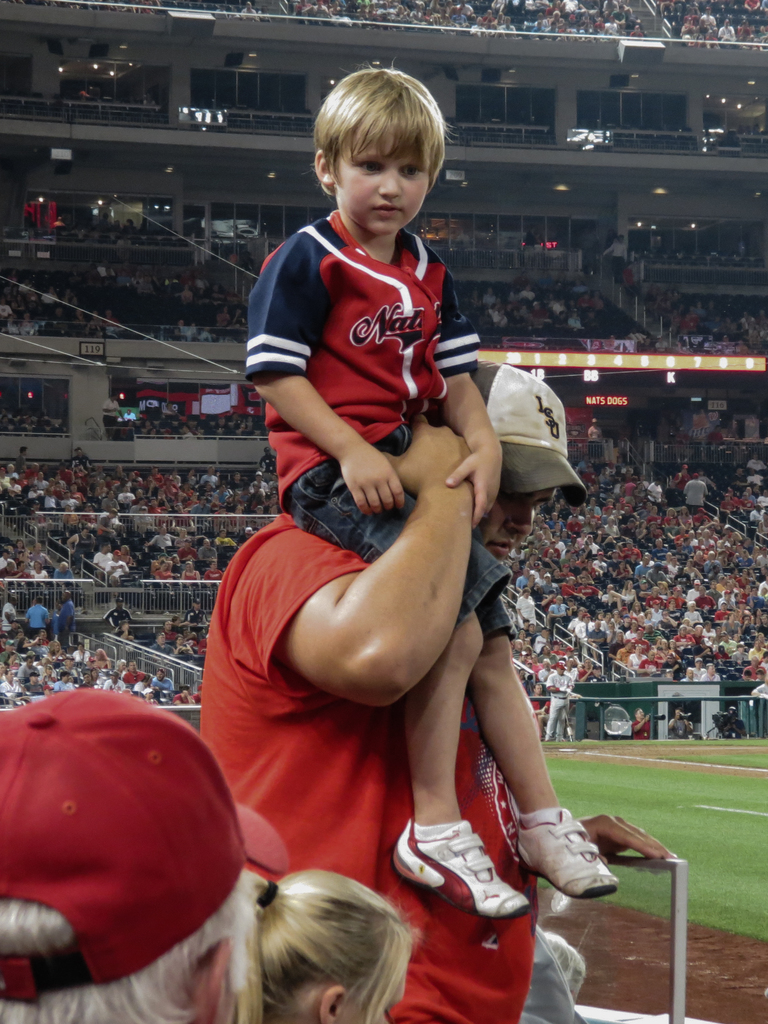Person: (0, 0, 768, 1023)
